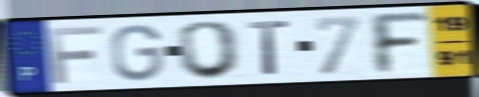7: (313, 13, 365, 77)
F: (365, 11, 432, 76), (45, 24, 105, 86)
G: (109, 22, 165, 83)
O: (176, 19, 245, 81)
T: (246, 18, 292, 76)
